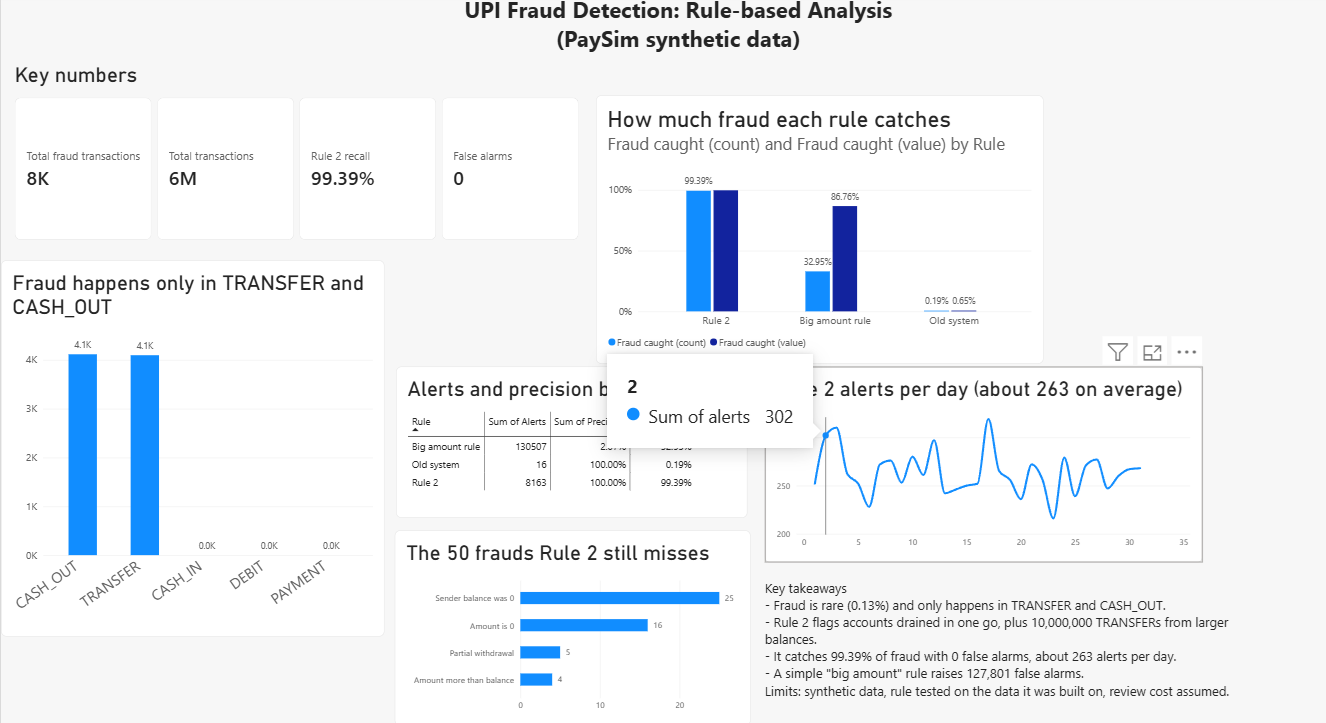

Layout of this report page (visuals, bound fields, positions):
{"tool":"powerbi","page":{"name":"Page 1","canvas":[1920,1080],"ordinal":0},"visuals":[{"type":"clusteredColumnChart","title":"Fraud happens only in TRANSFER and CASH_OUT","fields":{"Category":["fraud_by_type.type"],"Y":["Sum(fraud_by_type.fraud_txns)"]},"box":[0,385.5,555.6,544.7],"z":0},{"type":"textbox","box":[0,758.2,892.2,322.1],"z":1000},{"type":"cardVisual","title":"Key numbers","fields":{"Data":["Sum(KPI.TotalFraud)","Sum(KPI.TotalTxns)","Sum(KPI.Rule2Recall)","Sum(KPI.FalseAlarms)"]},"box":[19.9,99.5,819.8,257],"z":2000},{"type":"textbox","box":[1450.5,0,469.5,326],"z":3000},{"type":"textbox","box":[651.4,0,658,328],"z":5000},{"type":"clusteredColumnChart","title":"How much fraud each rule catches","fields":{"Category":["rule_comparison.Rule"],"Y":["Sum(rule_comparison.Recall)","Sum(rule_comparison.ValueCaught)"]},"box":[861.4,146.6,647.9,389.1],"z":5001},{"type":"tableEx","title":"Alerts and precision by rule","fields":{"Values":["rule_comparison.Rule","Sum(rule_comparison.Alerts)","Sum(rule_comparison.Precision)","Sum(rule_comparison.Recall)"]},"box":[571.9,539.3,508.5,219],"z":5002},{"type":"lineChart","title":"Rule 2 alerts per day (about 263 on average)","fields":{"Category":["daily_alerts.day_no"],"Y":["Sum(daily_alerts.alerts)"]},"box":[1105.7,539.3,633.4,284.1],"z":5003},{"type":"clusteredBarChart","title":"The 50 frauds Rule 2 still misses","fields":{"Category":["missed_50.Pattern"],"Y":["Sum(missed_50.FraudTxns)"]},"box":[570,776.3,515.1,283.5],"z":5004},{"type":"textbox","box":[1509,326,411,210],"z":5005},{"type":"textbox","box":[1105.7,846.9,702.1,213.5],"z":5006}]}

Visuals, with their boxes on the page's 1920x1080 design canvas (x1, y1, x2, y2). These are canvas units, not pixel positions in the 1326x723 screenshot, which may show the page scaled, cropped or inside an application window:
"Fraud happens only in TRANSFER and CASH_OUT" clusteredColumnChart: Rect(0, 386, 556, 930)
textbox: Rect(0, 758, 892, 1080)
"Key numbers" cardVisual: Rect(20, 100, 840, 356)
textbox: Rect(1450, 0, 1920, 326)
textbox: Rect(651, 0, 1309, 328)
"How much fraud each rule catches" clusteredColumnChart: Rect(861, 147, 1509, 536)
"Alerts and precision by rule" tableEx: Rect(572, 539, 1080, 758)
"Rule 2 alerts per day (about 263 on average)" lineChart: Rect(1106, 539, 1739, 823)
"The 50 frauds Rule 2 still misses" clusteredBarChart: Rect(570, 776, 1085, 1060)
textbox: Rect(1509, 326, 1920, 536)
textbox: Rect(1106, 847, 1808, 1060)
